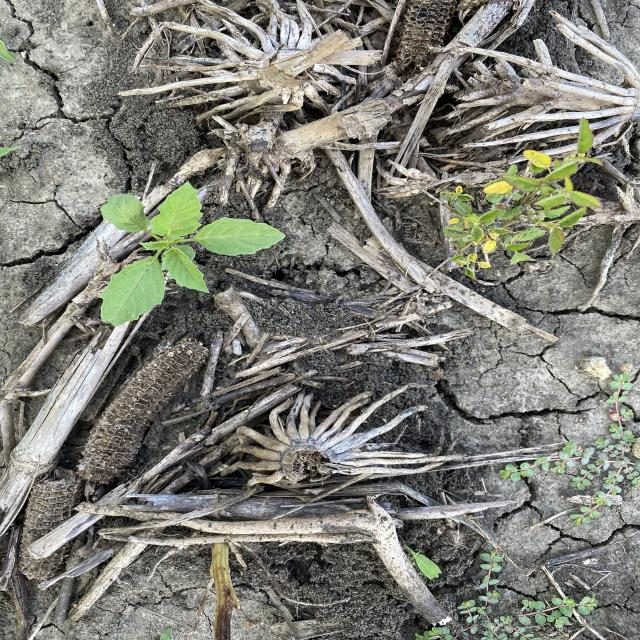CutleafGroundcherry: (92, 178, 289, 329)
PricklySida: (446, 117, 604, 279)
SpottedSpurge: (497, 370, 640, 528), (412, 550, 600, 638)
